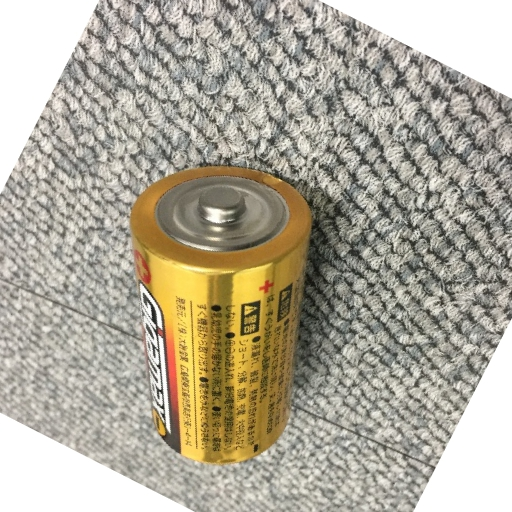Battery_0: (122, 162, 323, 464)
